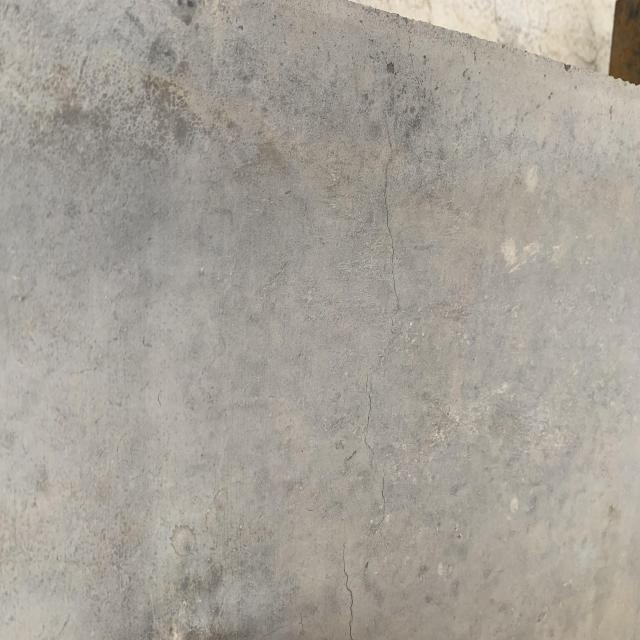vertical crack: (334, 19, 446, 640)
